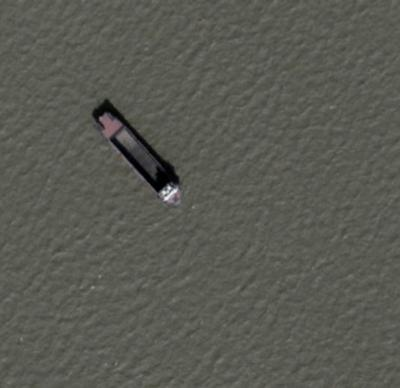Ships: (88, 99, 188, 211)
